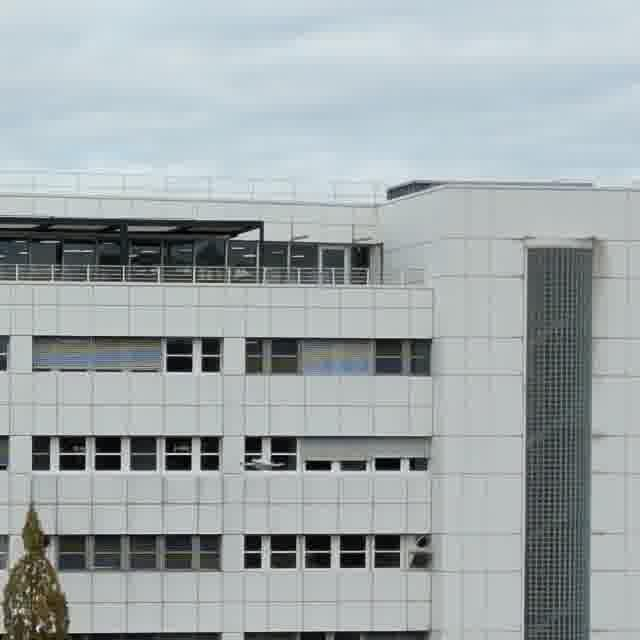Drohne: (245, 457, 284, 469)
